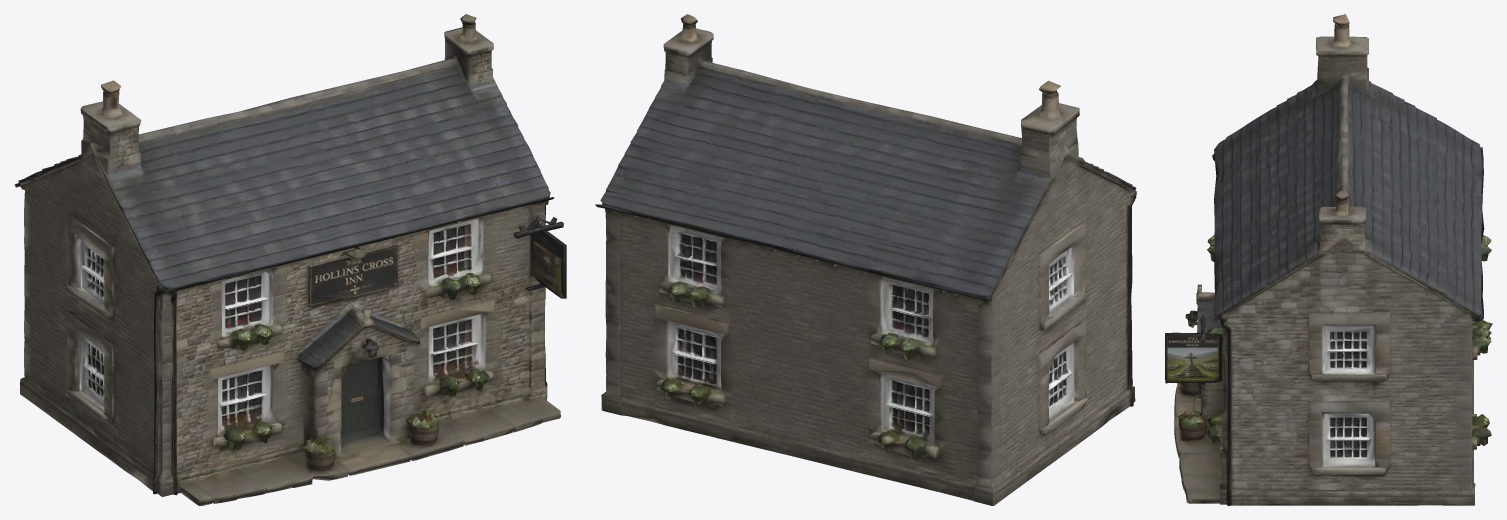
The model's file is hollins-cross-inn.glb.
3 renders of one model, left to right at view 1: azimuth 30°, elevation 25°; view 2: azimuth 150°, elevation 25°; view 3: azimuth 270°, elevation 25°, orthographic. The views are drawn at different scales.
Visible parts, largest first — view 1: tripo_node_6f2b1fd9-f105-4db0-b973-b1b064b76212; view 2: tripo_node_6f2b1fd9-f105-4db0-b973-b1b064b76212; view 3: tripo_node_6f2b1fd9-f105-4db0-b973-b1b064b76212.
Boxes of the visible parts, x1,y1,x2,y2 form: tripo_node_6f2b1fd9-f105-4db0-b973-b1b064b76212: [14, 14, 566, 505]; tripo_node_6f2b1fd9-f105-4db0-b973-b1b064b76212: [595, 14, 1136, 505]; tripo_node_6f2b1fd9-f105-4db0-b973-b1b064b76212: [1165, 14, 1492, 505].
Bounding box in the file's own units: 1 × 0.8683 × 0.7931.
Materials: 1 (1 with a texture image).
